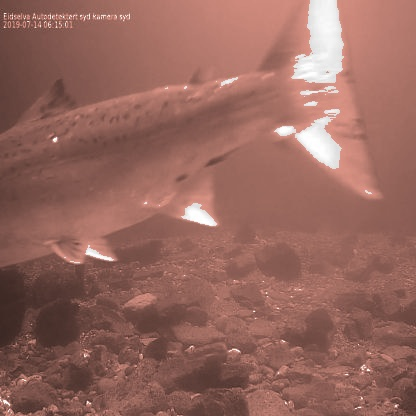salmon: (0, 0, 388, 272)
